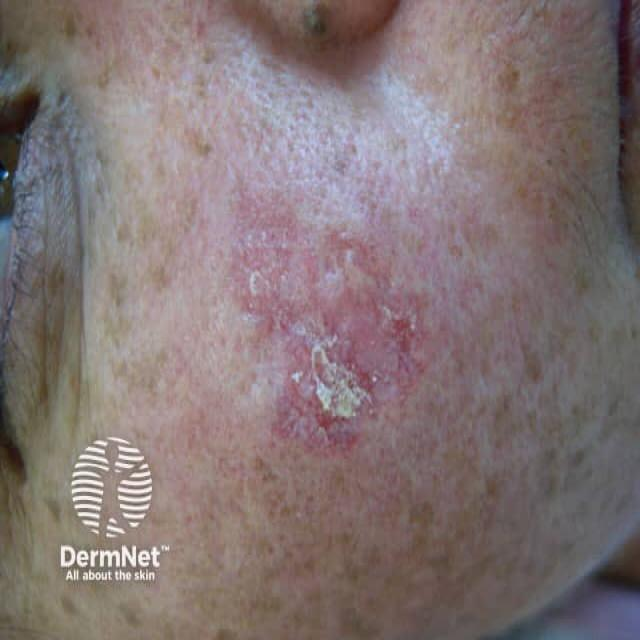lupus-detected: (165, 138, 457, 488)
